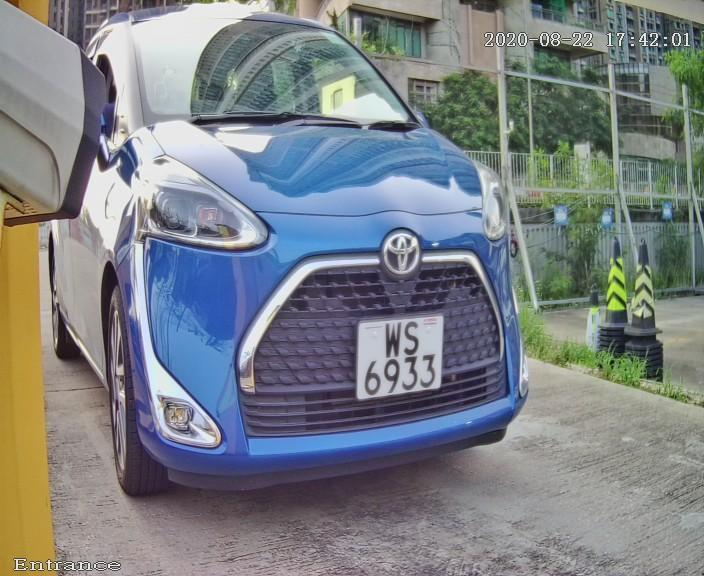Car: (48, 19, 566, 517)
License Plate: (343, 301, 450, 415)
